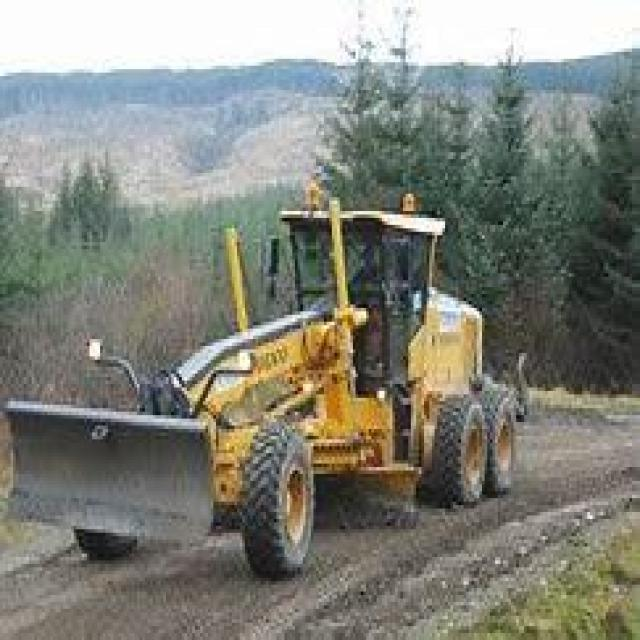buldozerpayloadergrader: (8, 187, 529, 578)
